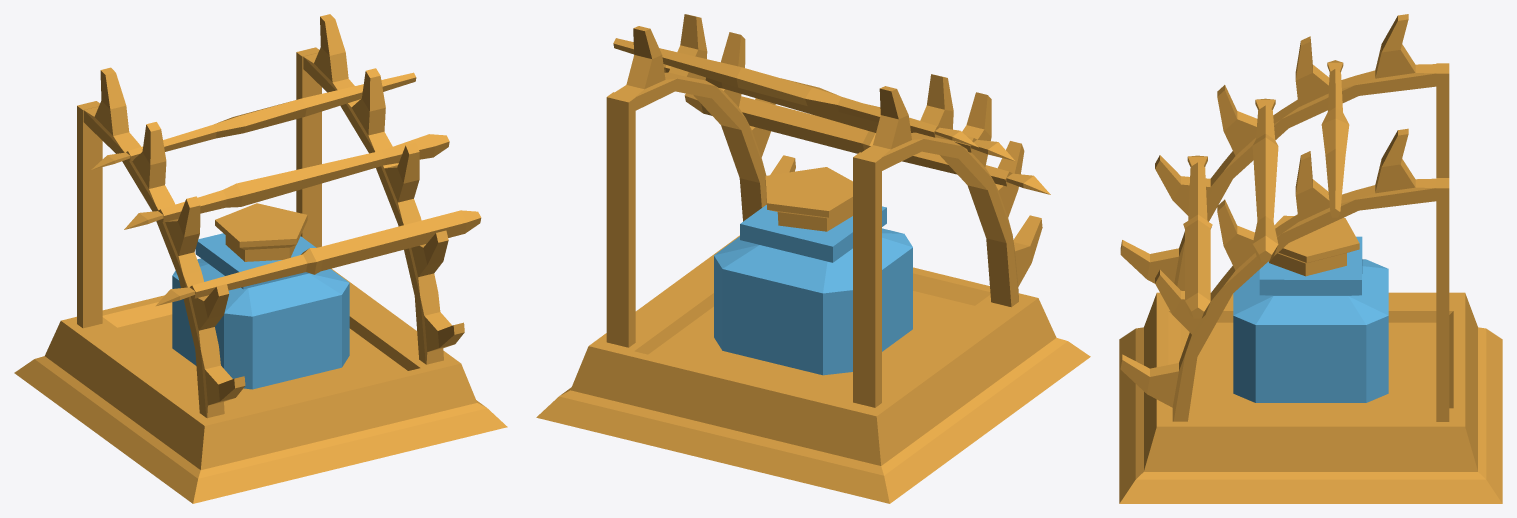
File: SM_Pen_Holder.fbx
The picture shows the model from 3 angles, left to right: view 1: azimuth 30°, elevation 25°; view 2: azimuth 150°, elevation 25°; view 3: azimuth 270°, elevation 25°; orthographic projection. The views are drawn at different scales.
Visible parts, largest first — view 1: pen-holder; view 2: pen-holder; view 3: pen-holder.
Boxes of the visible parts, x1,y1,x2,y2 form: pen-holder: (14,14,507,503); pen-holder: (536,14,1090,503); pen-holder: (1119,14,1502,503).
Bounding box in the file's own units: 0.1801 × 0.1728 × 0.1727.
